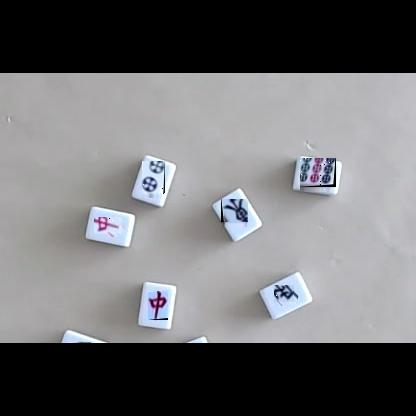1z: (221, 200, 248, 227)
2p: (142, 162, 165, 198)
3z: (275, 286, 298, 306), (70, 342, 91, 343)
7z: (148, 291, 168, 320), (95, 218, 125, 237)
9p: (300, 159, 336, 192)
